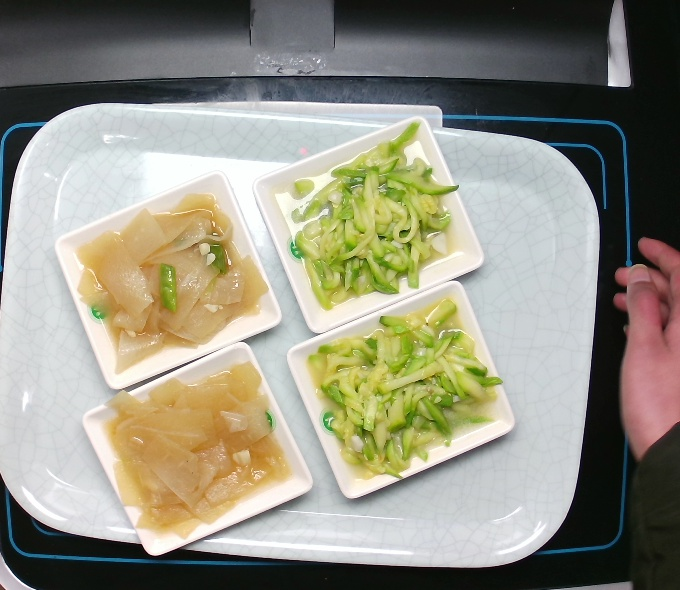wcq-LuoBo: (74, 186, 274, 370), (99, 367, 296, 541)
wcq-NenNanGua: (300, 299, 505, 491), (281, 121, 462, 312)
